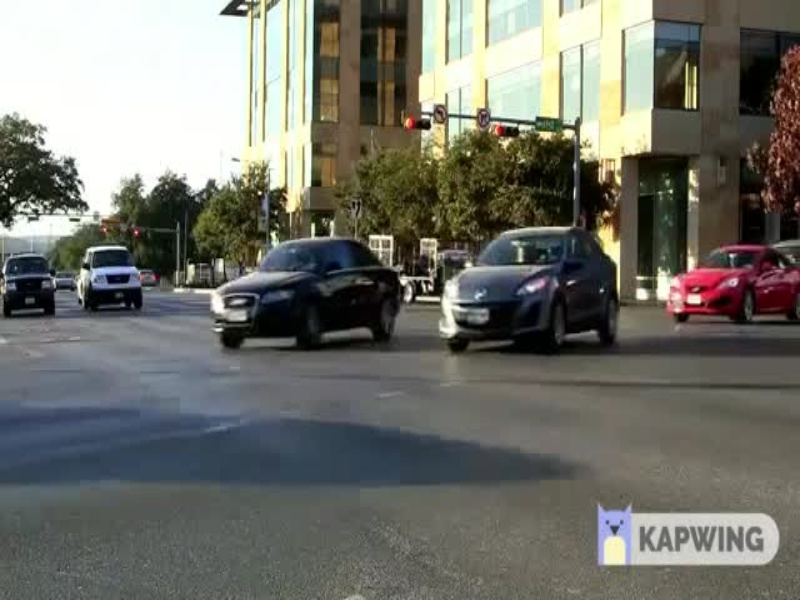car: (435, 224, 624, 358), (206, 235, 399, 361), (665, 243, 800, 329), (75, 241, 151, 313), (1, 255, 64, 319)
